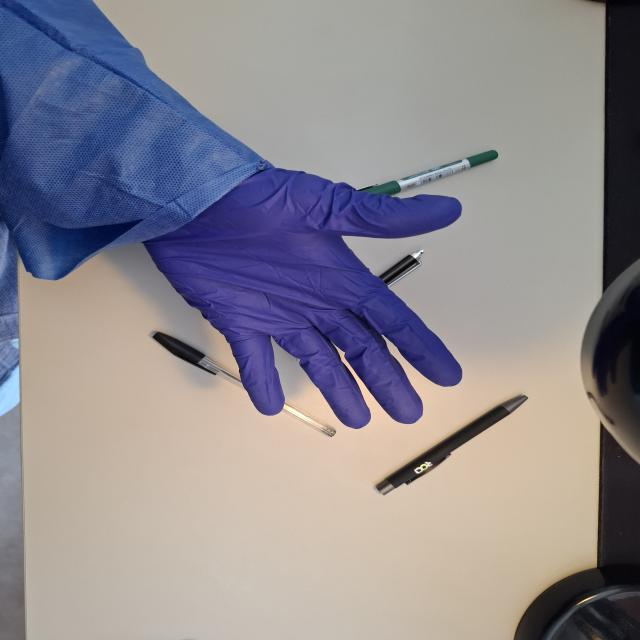glove_on: (136, 158, 467, 431)
